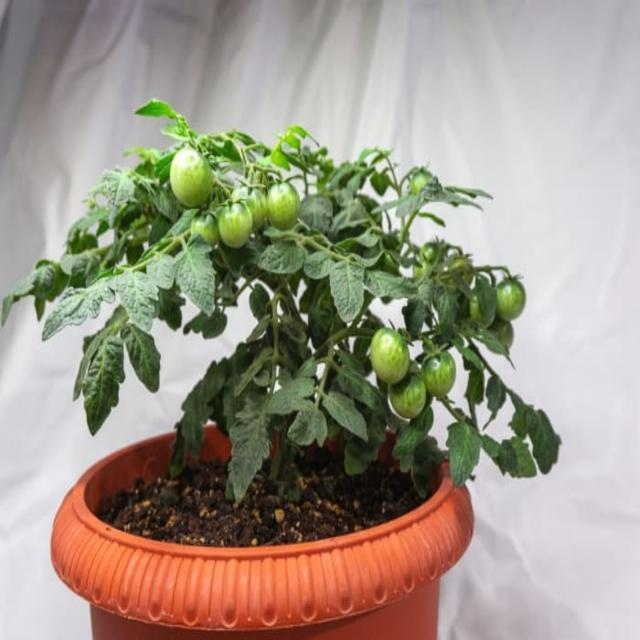tomato: (0, 101, 561, 503)
